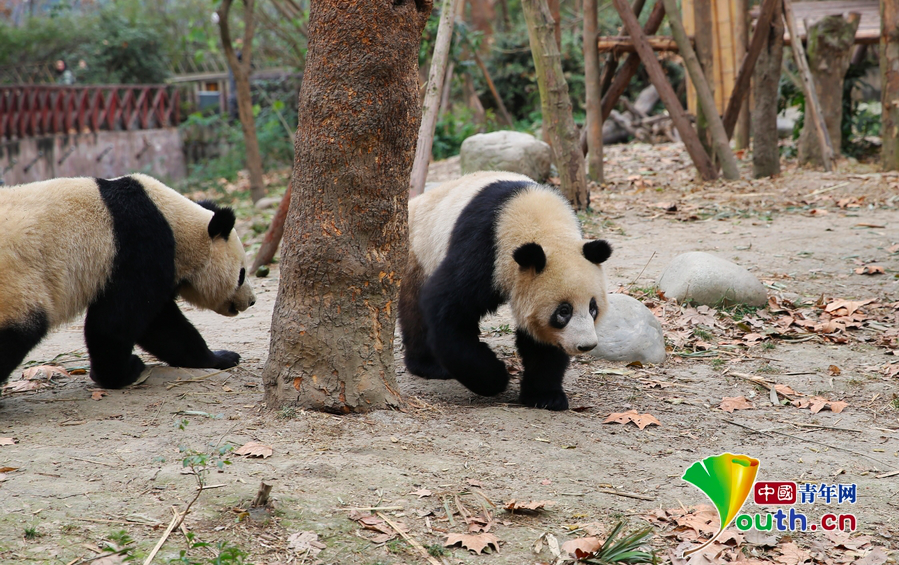panda: (3, 158, 261, 391), (399, 167, 616, 418)
